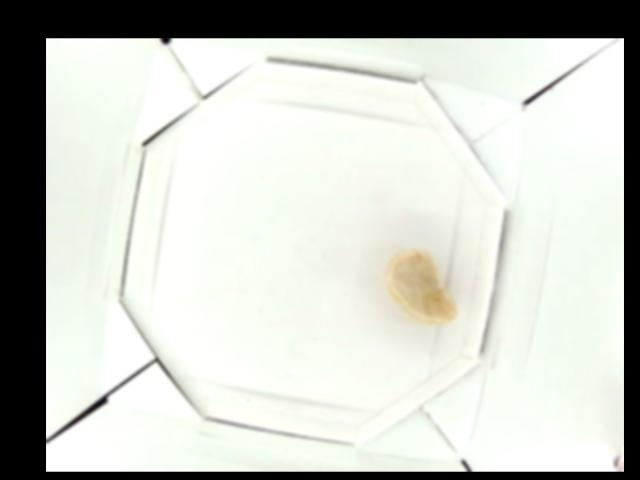Pebble: (385, 250, 460, 321)
